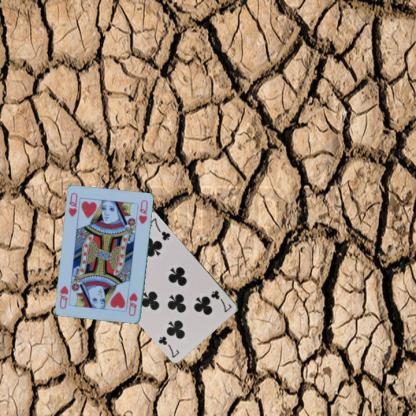7c: (209, 288, 233, 314)
Qh: (127, 290, 139, 318), (66, 190, 78, 218)
